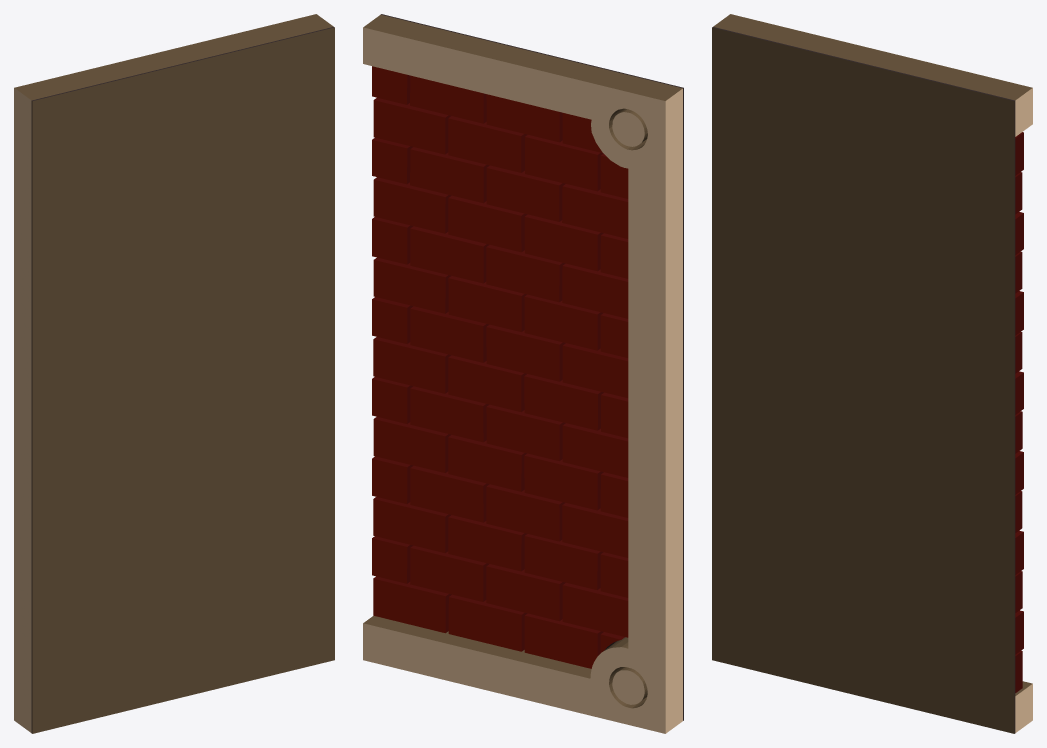
Rendered from muroDER.fbx.
3 views of the same model, side by side, from view 1: azimuth 30°, elevation 25°; view 2: azimuth 150°, elevation 25°; view 3: azimuth 330°, elevation 25° (orthographic).
Parts seen in each view (by area): view 1: MurExtremo; view 2: MurExtremo; view 3: MurExtremo.
Part boxes in pixels (x1=…): MurExtremo: x1=14, y1=14, x2=334, y2=733; MurExtremo: x1=363, y1=14, x2=683, y2=733; MurExtremo: x1=712, y1=14, x2=1032, y2=733.
Bounding box in the file's own units: 200 × 400 × 21.
